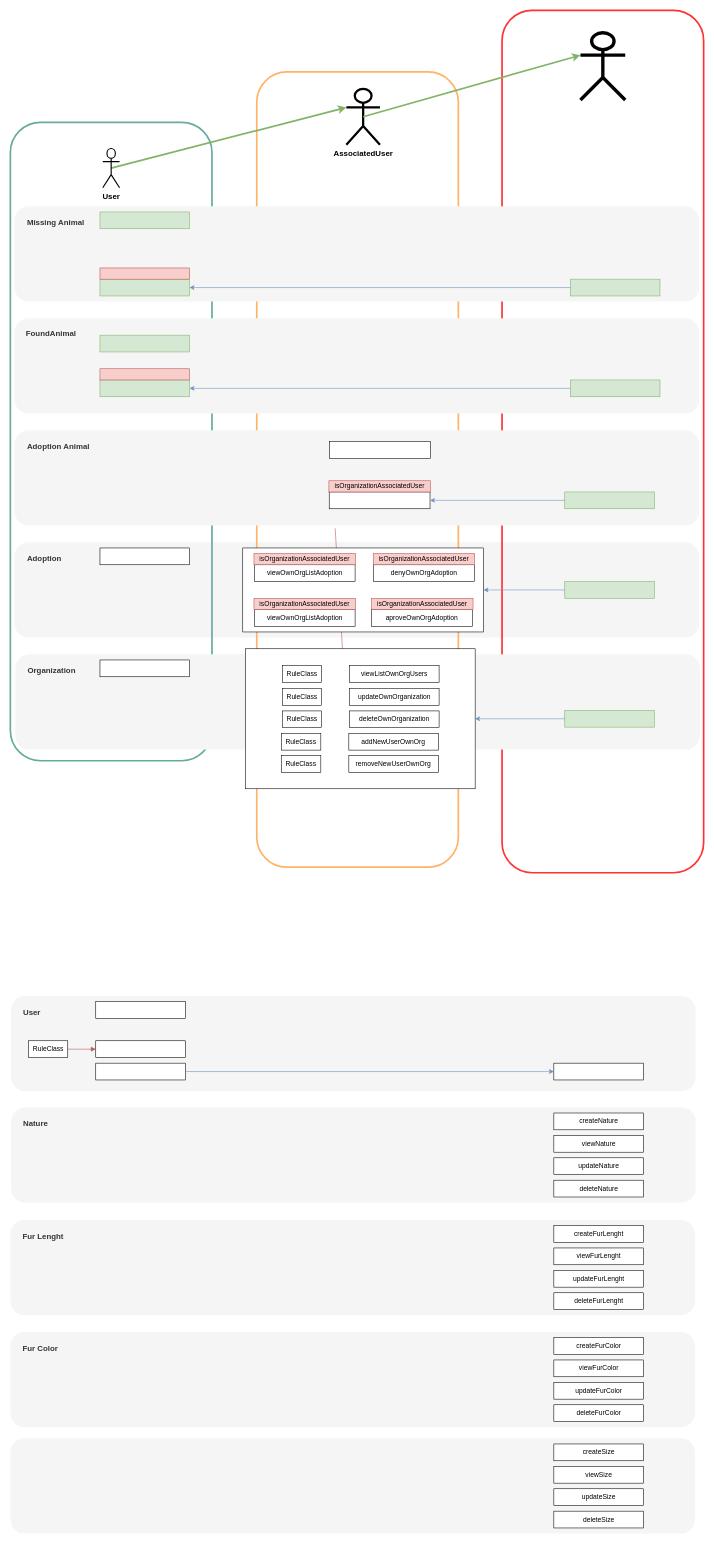
The diagram is 714 pixels wide and 1543 high, and some of its shapes have lost their labels. Here are the shapes that lost their labels. From the top down, the box of each, then its label:
(578, 31, 627, 101): AdminUser
(99, 211, 190, 229): createMissingAnimal
(99, 267, 190, 279): PublisherUserRule
(99, 279, 190, 296): manageOwnMissingAnimal
(570, 279, 660, 296): deleteMissingAnimal
(99, 335, 190, 352): createFoundAnimal
(99, 368, 190, 380): isPublisherUser
(99, 379, 190, 397): manageOwnFoundAnimal
(570, 379, 660, 397): deleteFoundAnimal
(329, 441, 430, 458): createAdoptionAnimal
(329, 491, 430, 509): manageOwnOrgMissingAnimal
(564, 491, 654, 509): deleteAdoptionAnimal
(99, 547, 190, 565): createAdoptionRequest
(242, 547, 484, 632): MANAGE OWN ORG ADOPTION
(564, 581, 654, 598): manageAdoption
(99, 659, 190, 677): createOrganizationRequest
(245, 648, 475, 789): MANAGE OWN ORGANIZATION
(564, 710, 654, 727): manageOrganization
(95, 1001, 185, 1018): logout
(95, 1040, 185, 1058): updateOwnUser
(95, 1063, 185, 1080): deleteOwnUser
(553, 1063, 643, 1080): deleteUser
(10, 1438, 695, 1533): Fur Size
